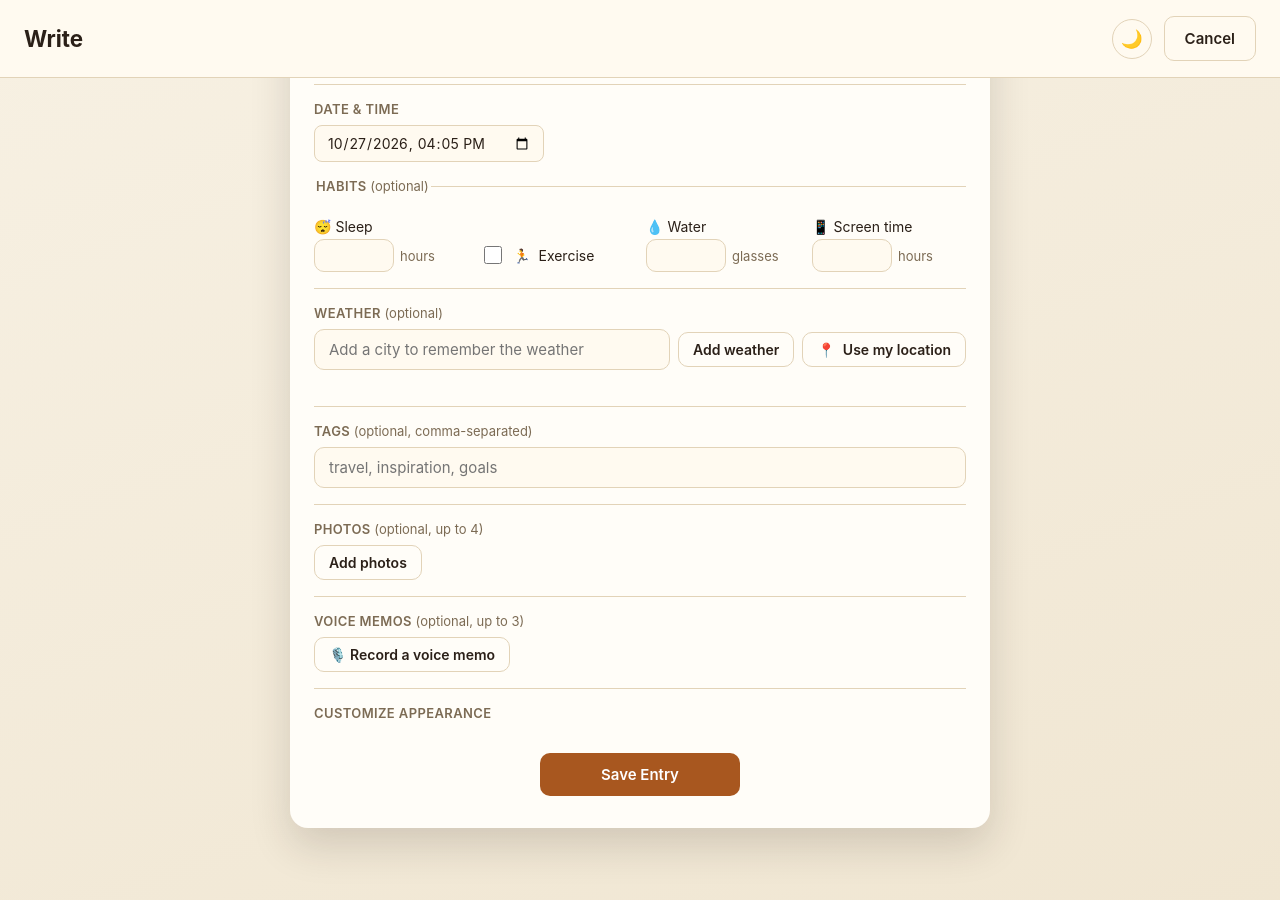
Scenario: Voice memos › explains a blocked microphone
(page scrolled)
Click the button "🎙️ Record a voice memo".
click(412, 654)  # box [314,637,510,672]
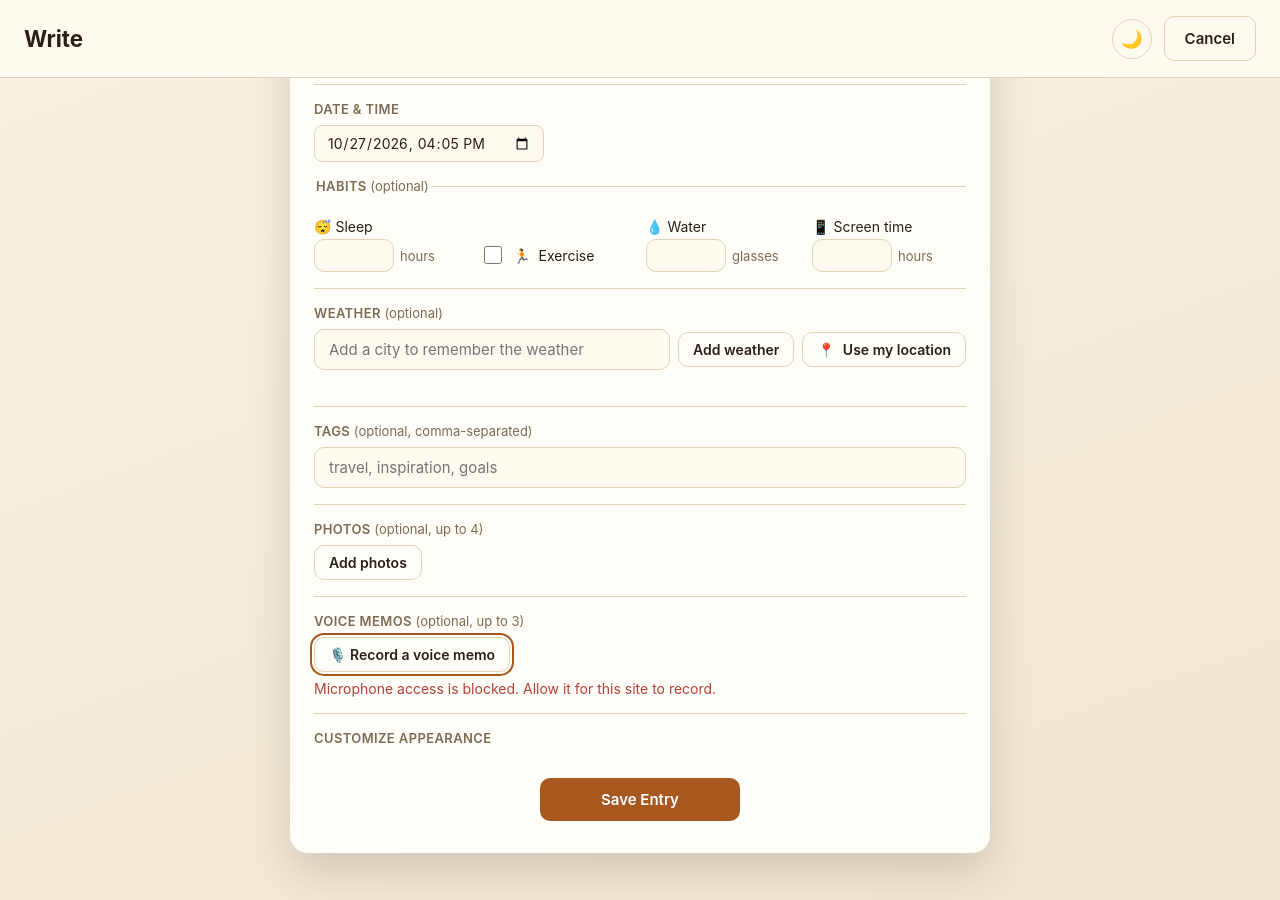
expect the message shows "Microphone access is blocked": met, box [314,680,716,697]
